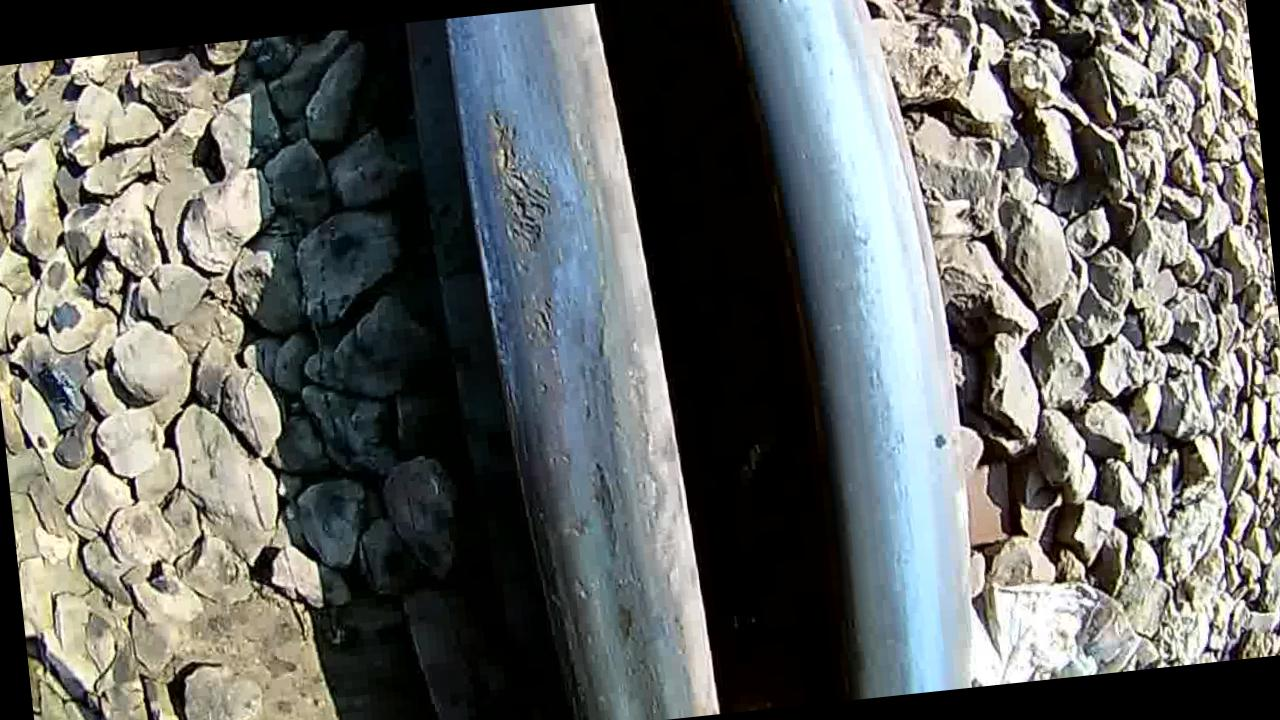crack: (442, 6, 693, 720)
